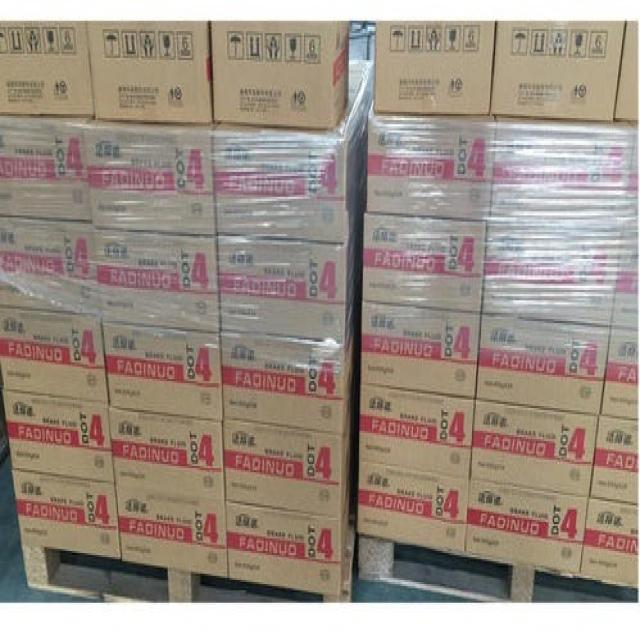box: (212, 60, 375, 244), (218, 215, 363, 344), (491, 114, 635, 232), (83, 116, 217, 234), (367, 101, 496, 222), (210, 21, 349, 128), (221, 325, 355, 435), (482, 224, 622, 327), (491, 21, 626, 122), (476, 315, 611, 416), (223, 414, 351, 518), (92, 230, 221, 333), (87, 21, 213, 124), (226, 495, 350, 597), (471, 400, 599, 497), (363, 215, 487, 313), (360, 302, 481, 400), (103, 323, 223, 420), (375, 21, 496, 116), (466, 483, 589, 574), (359, 385, 475, 481), (108, 406, 224, 501), (1, 389, 114, 485), (0, 307, 109, 404), (115, 487, 228, 578), (0, 217, 100, 317), (357, 464, 469, 553), (0, 116, 91, 222), (12, 472, 121, 559), (0, 21, 94, 116), (580, 499, 639, 588), (590, 416, 639, 505), (602, 327, 639, 420), (611, 236, 639, 329), (614, 21, 639, 120), (625, 133, 639, 234)
